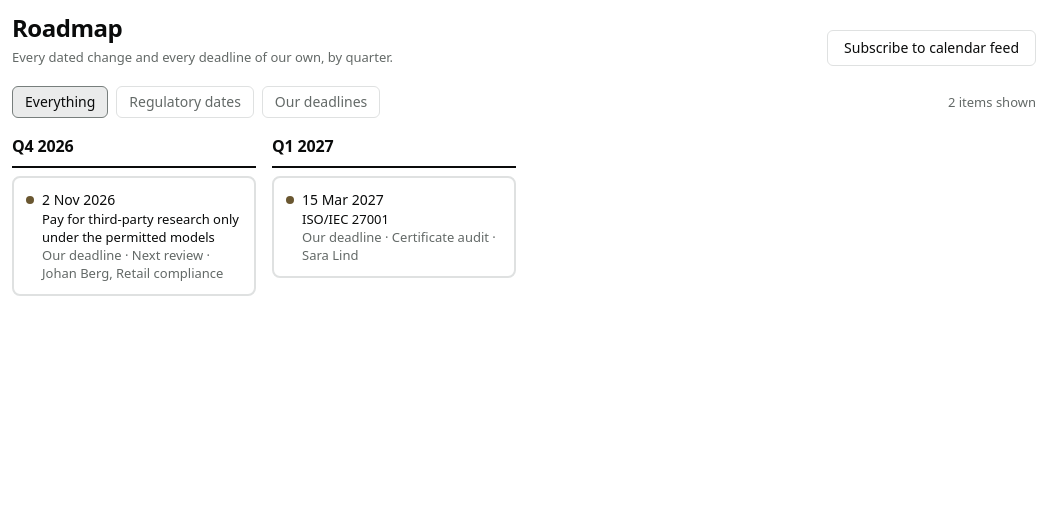
Scenario: RoadmapScreen › our own deadline reads Our deadline in the brand tone and names what it is, its owner and its record
Click the button "Pay for third-party research".
click(134, 236)  # box x1=12 y1=176 x2=256 y2=296
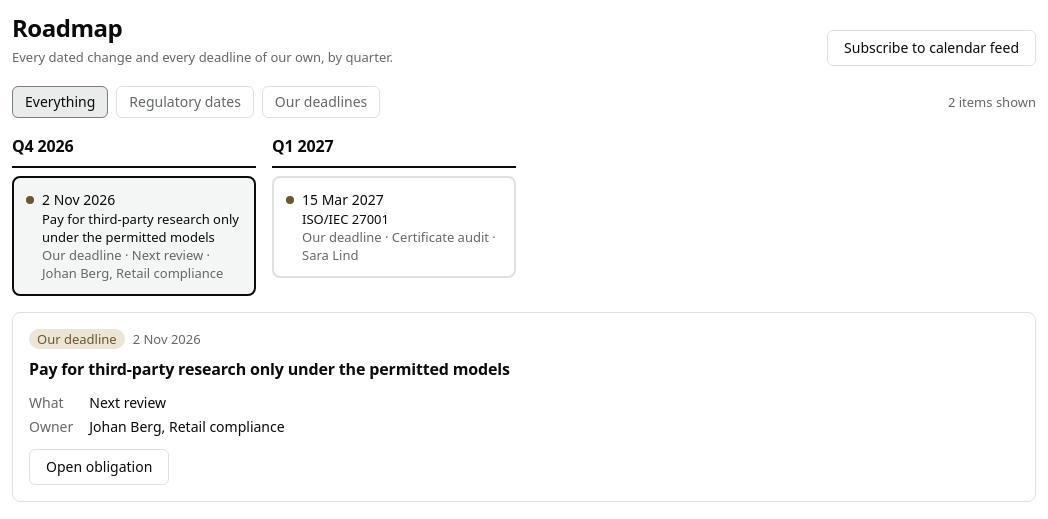
Now the text "Our deadline" is shown, box x1=29 y1=329 x2=125 y2=349
